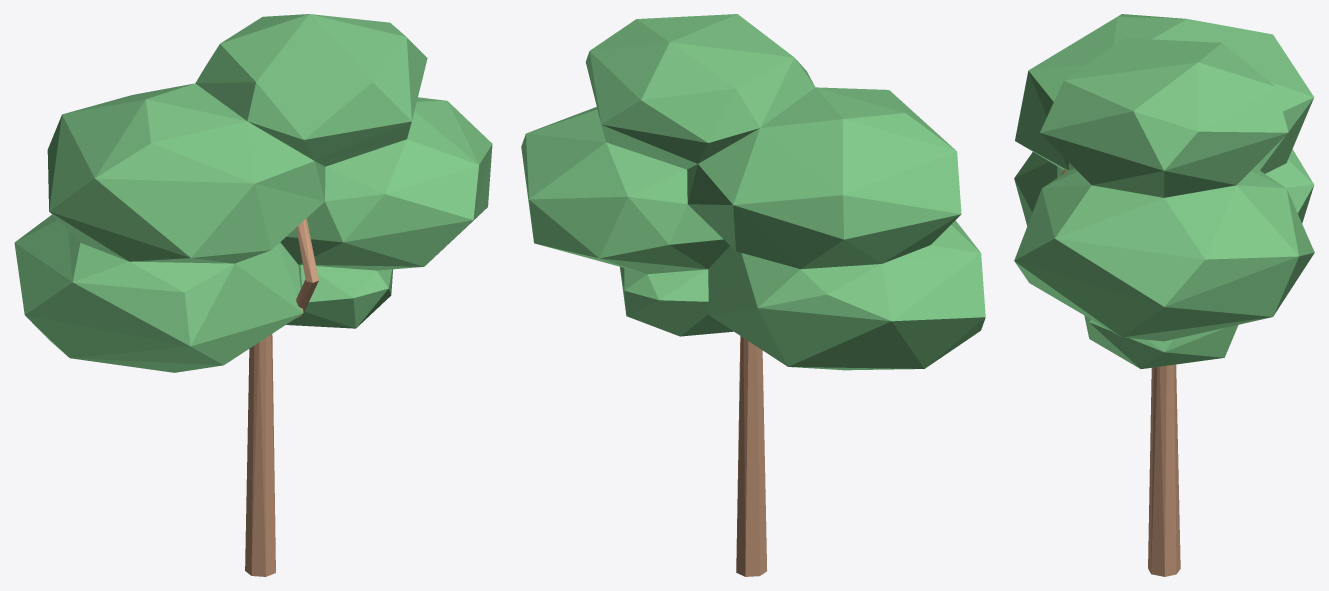
The model's file is tree24.fbx.
The picture shows the model from 3 angles, left to right: view 1: azimuth 30°, elevation 25°; view 2: azimuth 150°, elevation 25°; view 3: azimuth 270°, elevation 25°; orthographic projection. The views are drawn at different scales.
Visible parts, largest first — view 1: treetype24; view 2: treetype24; view 3: treetype24.
Part boxes in pixels (box(x1,y1,x2,y2)): treetype24: box(14, 14, 492, 576); treetype24: box(521, 14, 985, 576); treetype24: box(1014, 14, 1314, 576).
Size of the model in its own units: 191 by 206 by 104.
